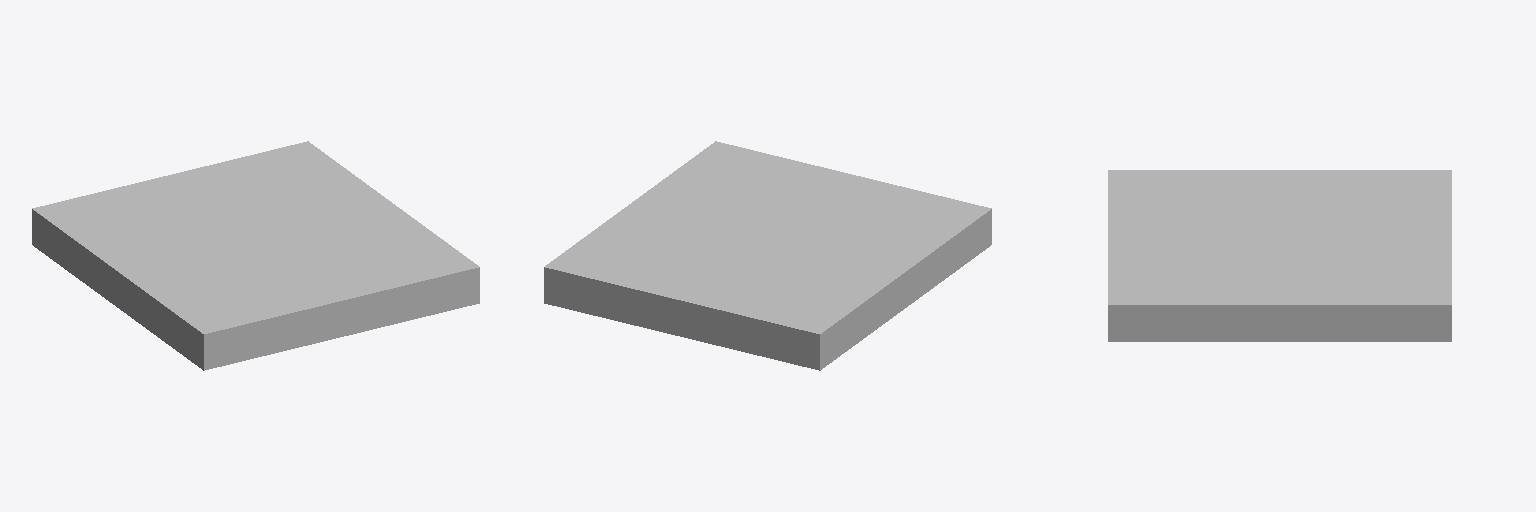
Rendered from wall.obj.
3 views of the same model, side by side, from view 1: azimuth 30°, elevation 25°; view 2: azimuth 150°, elevation 25°; view 3: azimuth 270°, elevation 25° (orthographic).
Parts seen in each view (by area): view 1: frac; view 2: frac; view 3: frac.
Boxes of the visible parts, box(x1,y1,x2,y2) form: frac: box(32, 141, 479, 370); frac: box(544, 141, 991, 370); frac: box(1108, 170, 1451, 341).
Size of the model in its own units: 21.43 by 2.69 by 23.1.